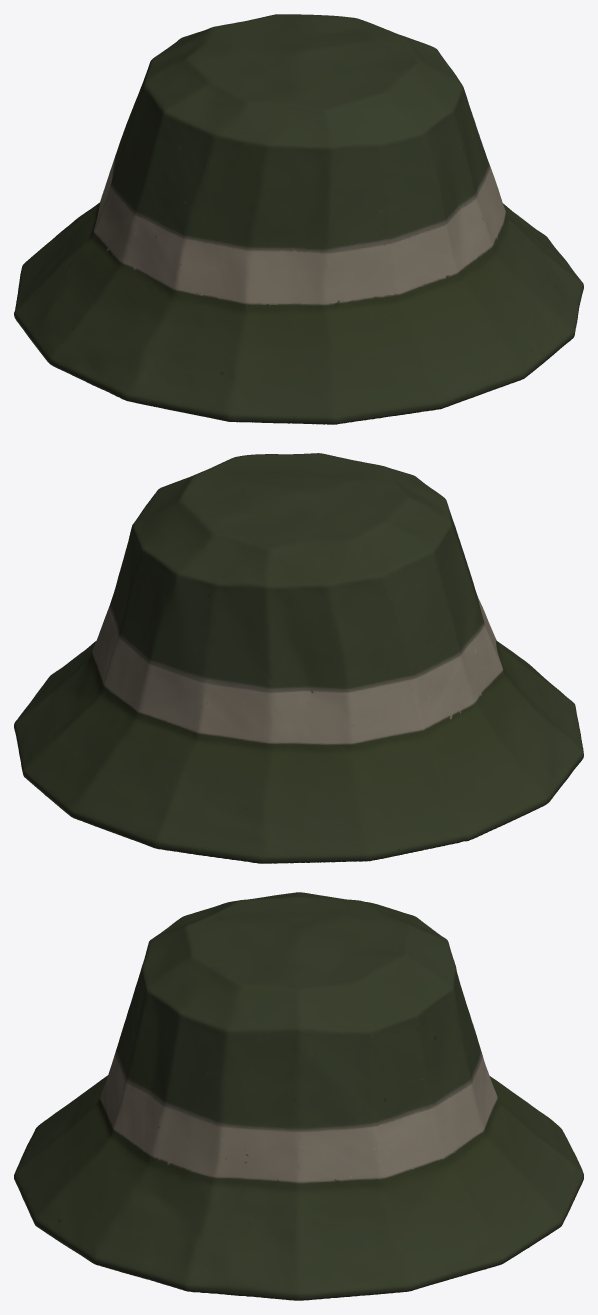
Rendered from bucket_hat.glb.
The picture shows the model from 3 angles, top to bottom: view 1: azimuth 30°, elevation 25°; view 2: azimuth 150°, elevation 25°; view 3: azimuth 270°, elevation 25°; orthographic projection.
Parts seen in each view (by area): view 1: world; view 2: world; view 3: world.
Part boxes in pixels (x1,y1,x2,y2): world: [14, 14, 583, 424]; world: [14, 453, 583, 863]; world: [14, 892, 583, 1300].
Size of the model in its own units: 1 by 0.484 by 0.9998.
1 material, 1 textured.
